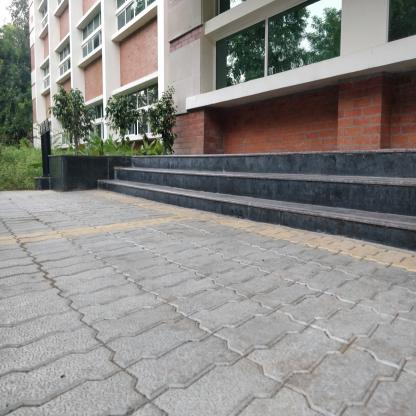stairs: (190, 159, 330, 242)
